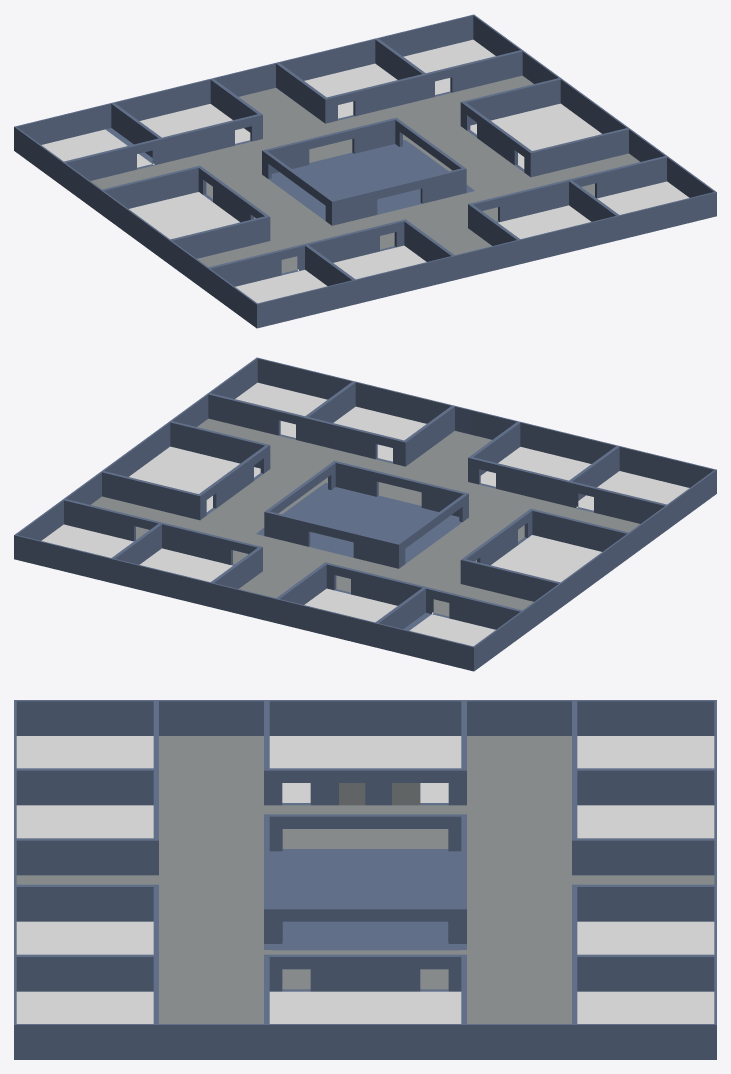
File: escola8.fbx
3 views of the same model, one above another, from view 1: azimuth 30°, elevation 25°; view 2: azimuth 150°, elevation 25°; view 3: azimuth 270°, elevation 25° (orthographic). The views are drawn at different scales.
Parts seen in each view (by area): view 1: Plane; view 2: Plane; view 3: Plane.
Boxes of the visible parts, left/top/right/bottom form: Plane: left=14, top=14, right=716, bottom=328; Plane: left=14, top=357, right=716, bottom=671; Plane: left=14, top=700, right=716, bottom=1059.
Size of the model in its own units: 7000 by 350 by 6400.
